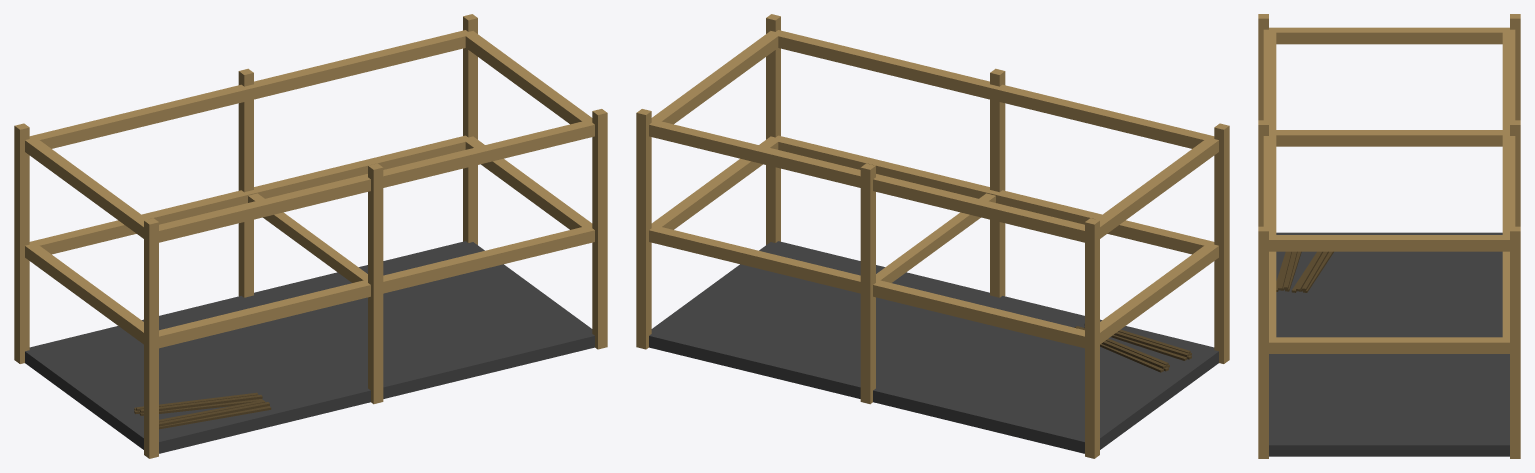
File: Building_ConstructionSite2Story_Mod_01.fbx
The picture shows the model from 3 angles, left to right: view 1: azimuth 30°, elevation 25°; view 2: azimuth 150°, elevation 25°; view 3: azimuth 270°, elevation 25°; orthographic projection. The views are drawn at different scales.
Visible parts, largest first — view 1: Floor, Beams2, Beams1, Beams, Planks1, Planks2; view 2: Floor, Beams2, Beams1, Beams, Planks1, Planks2; view 3: Floor, Beams2, Beams1, Beams, Planks2, Planks1.
Boxes of the visible parts, bbox=[...] form: Floor: bbox=[25, 241, 594, 453]; Beams2: bbox=[25, 30, 594, 242]; Beams1: bbox=[25, 135, 594, 348]; Beams: bbox=[14, 14, 607, 458]; Planks1: bbox=[159, 400, 271, 429]; Planks2: bbox=[134, 392, 262, 415]; Floor: bbox=[649, 241, 1218, 453]; Beams2: bbox=[649, 30, 1218, 242]; Beams1: bbox=[649, 135, 1218, 348]; Beams: bbox=[636, 14, 1229, 458]; Planks1: bbox=[1084, 324, 1191, 360]; Planks2: bbox=[1074, 326, 1169, 372]; Floor: bbox=[1269, 232, 1509, 456]; Beams2: bbox=[1263, 27, 1515, 251]; Beams1: bbox=[1269, 130, 1509, 353]; Beams: bbox=[1258, 14, 1520, 458]; Planks2: bbox=[1291, 251, 1333, 292]; Planks1: bbox=[1276, 251, 1301, 291].
Size of the model in its own units: 20.43 by 9.99 by 10.43.
